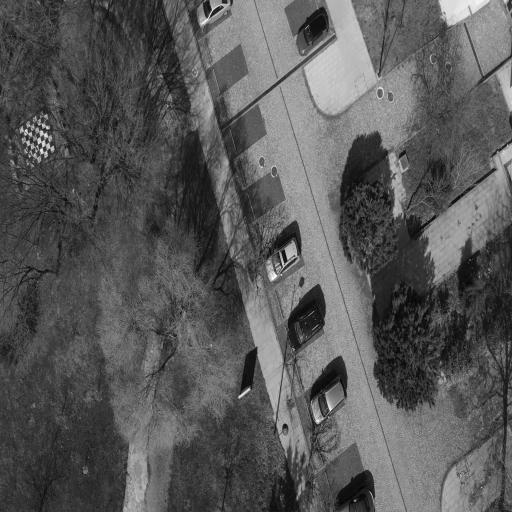person: (311, 376, 346, 424), (289, 302, 324, 349), (266, 238, 299, 282), (297, 10, 328, 56), (197, 0, 232, 28), (337, 488, 374, 511)
